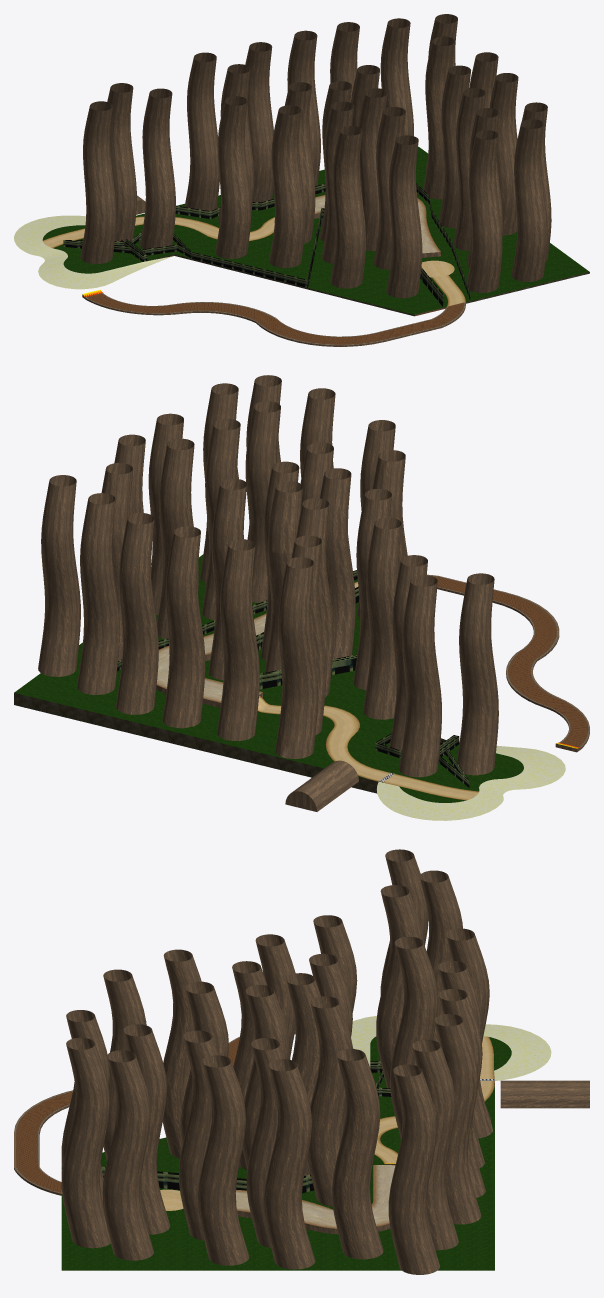
3 views of the same model, one above another, from view 1: azimuth 30°, elevation 25°; view 2: azimuth 150°, elevation 25°; view 3: azimuth 270°, elevation 25° (orthographic). The views are drawn at different scales.
Parts seen in each view (by area): view 1: course-SKP--Material1.005, course-SKP--Material.013, course-SKP--Material3.004, course-SKP--Material10.001, course-SKP--Material4.004, course-SKP--Material5.004, course-SKP--Material11.001, course-SKP--Material6.003; view 2: course-SKP--Material1.005, course-SKP--Material.013, course-SKP--Material4.004, course-SKP--Material3.004, course-SKP--Material11.001, course-SKP--Material5.004, course-SKP--Material10.001, course-SKP--Material6.003; view 3: course-SKP--Material1.005, course-SKP--Material.013, course-SKP--Material4.004, course-SKP--Material3.004, course-SKP--Material6.003, course-SKP--Material5.004, course-SKP--Material10.001.
Part boxes in pixels (left/top/right/bottom): course-SKP--Material1.005: left=80, top=14, right=551, bottom=346; course-SKP--Material.013: left=42, top=146, right=589, bottom=314; course-SKP--Material3.004: left=85, top=293, right=465, bottom=345; course-SKP--Material10.001: left=63, top=183, right=470, bottom=306; course-SKP--Material4.004: left=14, top=215, right=173, bottom=289; course-SKP--Material5.004: left=43, top=216, right=465, bottom=306; course-SKP--Material11.001: left=147, top=254, right=589, bottom=316; course-SKP--Material6.003: left=314, top=195, right=440, bottom=253; course-SKP--Material1.005: left=38, top=375, right=589, bottom=811; course-SKP--Material.013: left=14, top=554, right=523, bottom=802; course-SKP--Material4.004: left=376, top=742, right=565, bottom=820; course-SKP--Material3.004: left=427, top=574, right=589, bottom=747; course-SKP--Material11.001: left=14, top=693, right=378, bottom=793; course-SKP--Material5.004: left=257, top=582, right=478, bottom=800; course-SKP--Material10.001: left=117, top=570, right=469, bottom=787; course-SKP--Material6.003: left=156, top=613, right=266, bottom=702; course-SKP--Material1.005: left=14, top=849, right=589, bottom=1274; course-SKP--Material.013: left=61, top=1036, right=511, bottom=1270; course-SKP--Material4.004: left=351, top=1016, right=551, bottom=1080; course-SKP--Material3.004: left=14, top=1030, right=295, bottom=1191; course-SKP--Material6.003: left=235, top=1165, right=395, bottom=1228; course-SKP--Material5.004: left=61, top=1036, right=494, bottom=1210; course-SKP--Material10.001: left=61, top=1061, right=391, bottom=1193.
Size of what is drawn, in the model's own units: 74005 by 27506 by 68796.
Materials: 26 (26 with a texture image).
